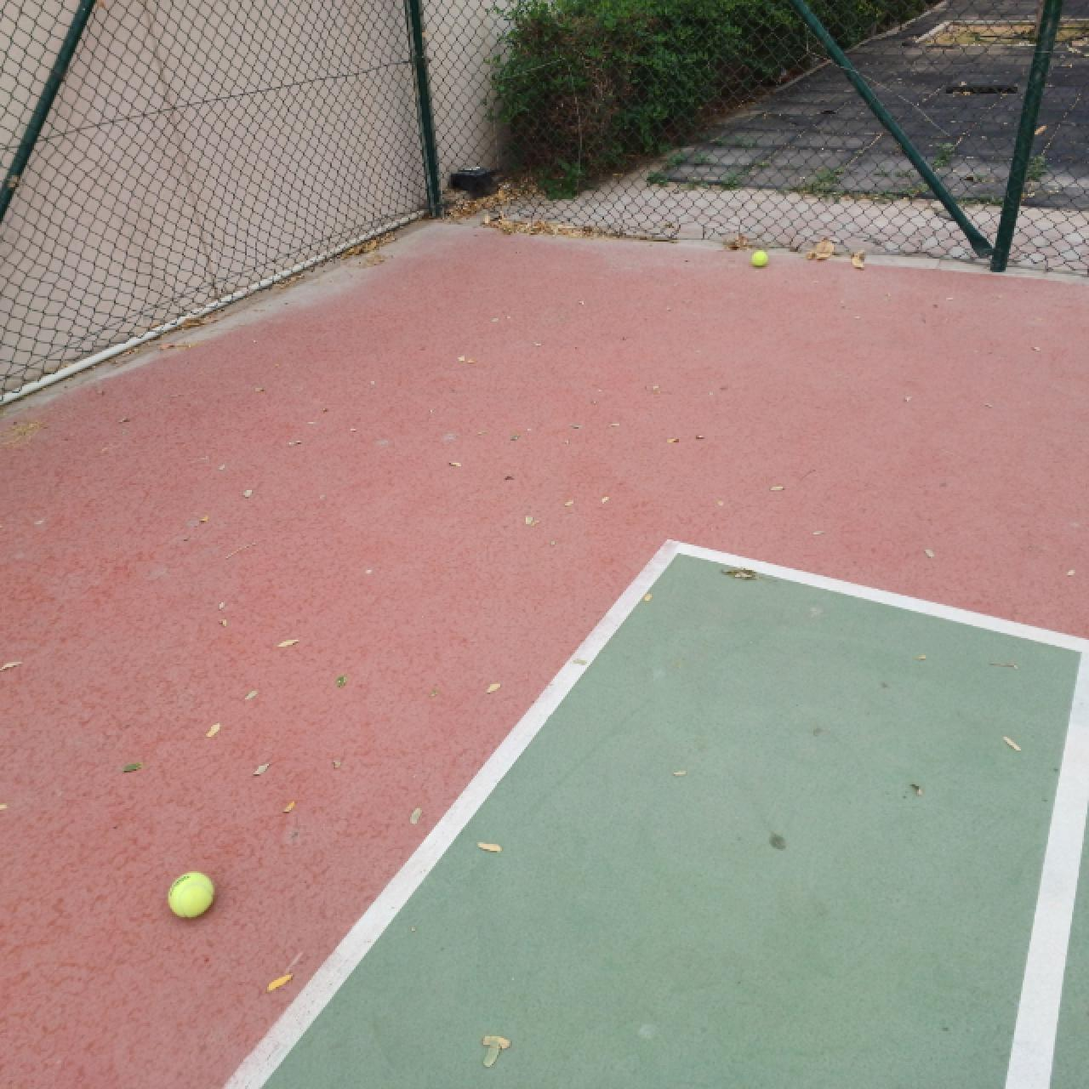tennis-ball: (169, 869, 215, 919), (748, 247, 770, 269)
